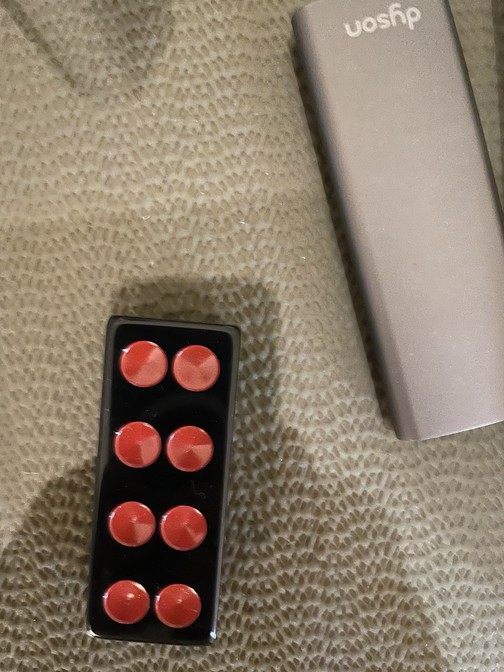man: (87, 315, 242, 649)
